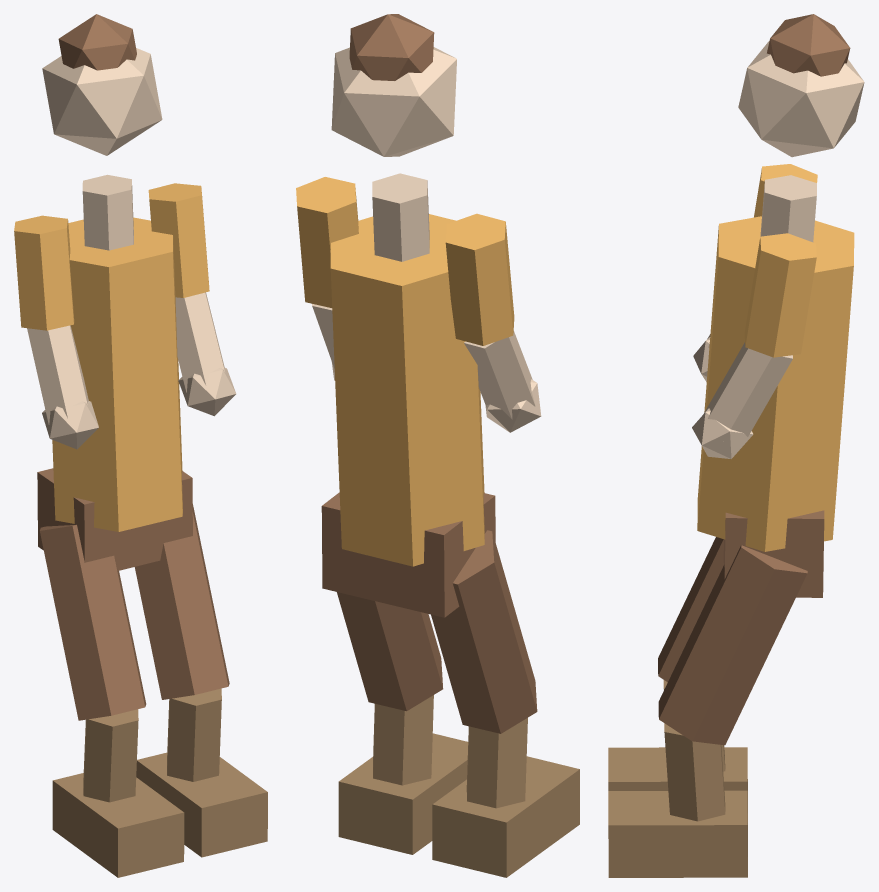
File: pose_hit_light_17.glb
3 renders of one model, left to right at view 1: azimuth 30°, elevation 25°; view 2: azimuth 150°, elevation 25°; view 3: azimuth 270°, elevation 25°, orthographic. The views are drawn at different scales.
Parts seen in each view (by area): view 1: pose; view 2: pose; view 3: pose.
Boxes of the visible parts, x1=… form: pose: x1=14, y1=14, x2=267, y2=877; pose: x1=296, y1=14, x2=579, y2=877; pose: x1=608, y1=14, x2=864, y2=877.
Bounding box in the file's own units: 0.3963 × 1.57 × 0.4412.
